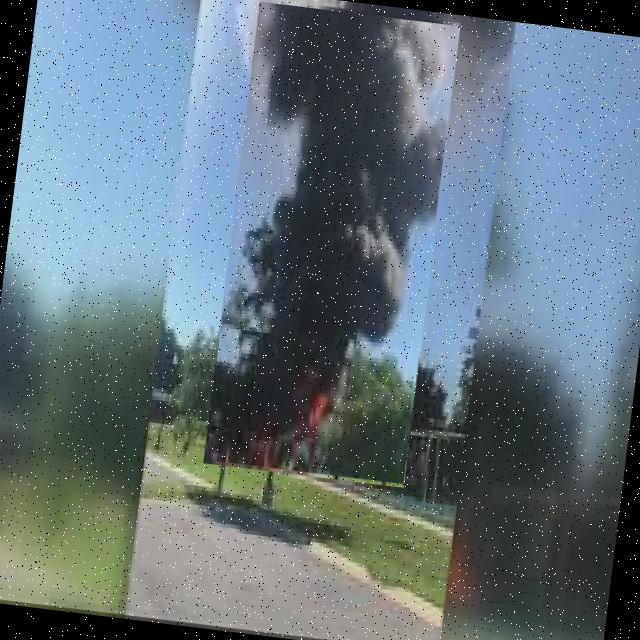fire: (203, 1, 460, 488)
